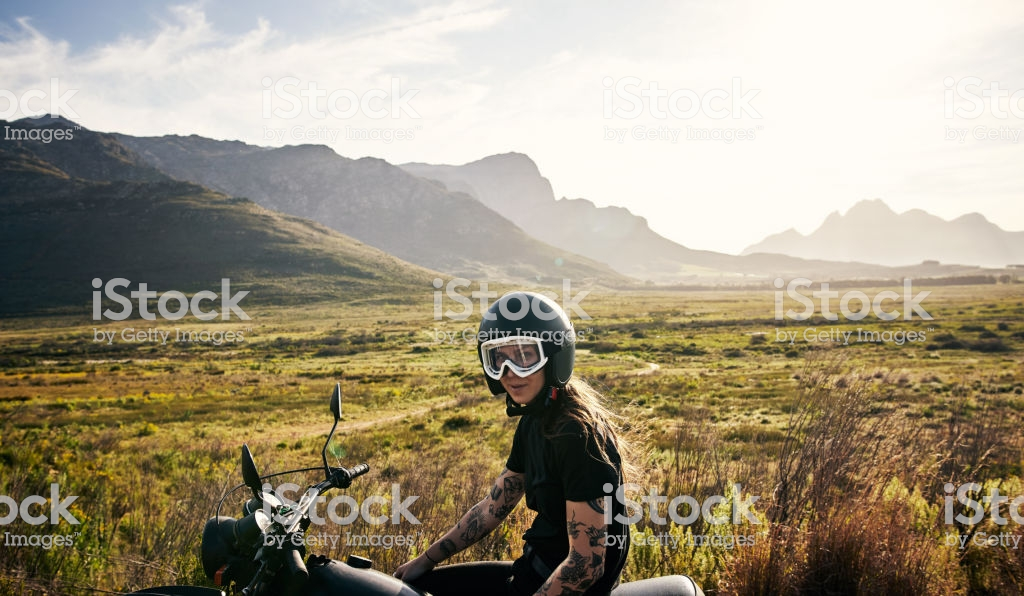helmet: (477, 300, 576, 382)
